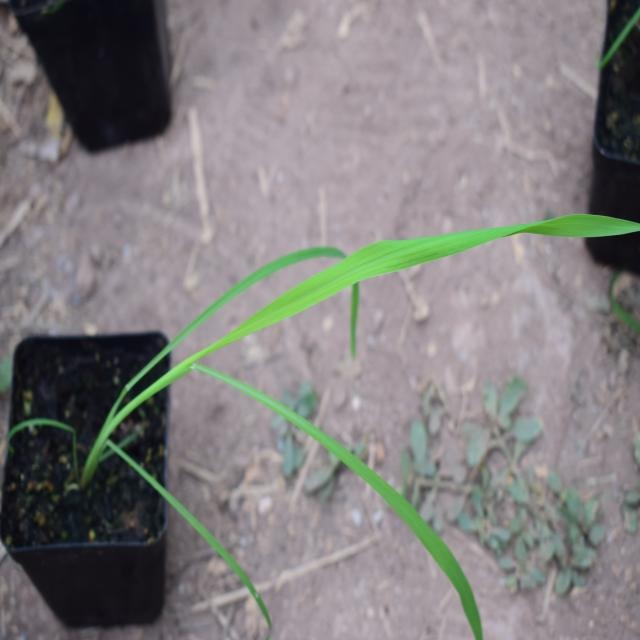barnyard_grass: (101, 134, 618, 582)
